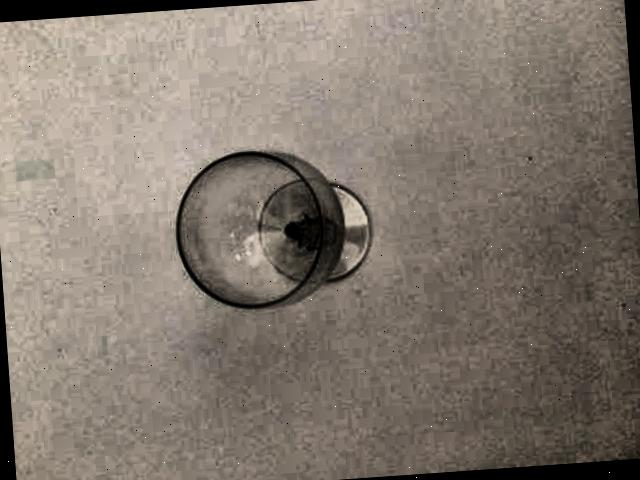Almennt: (154, 125, 386, 325)
